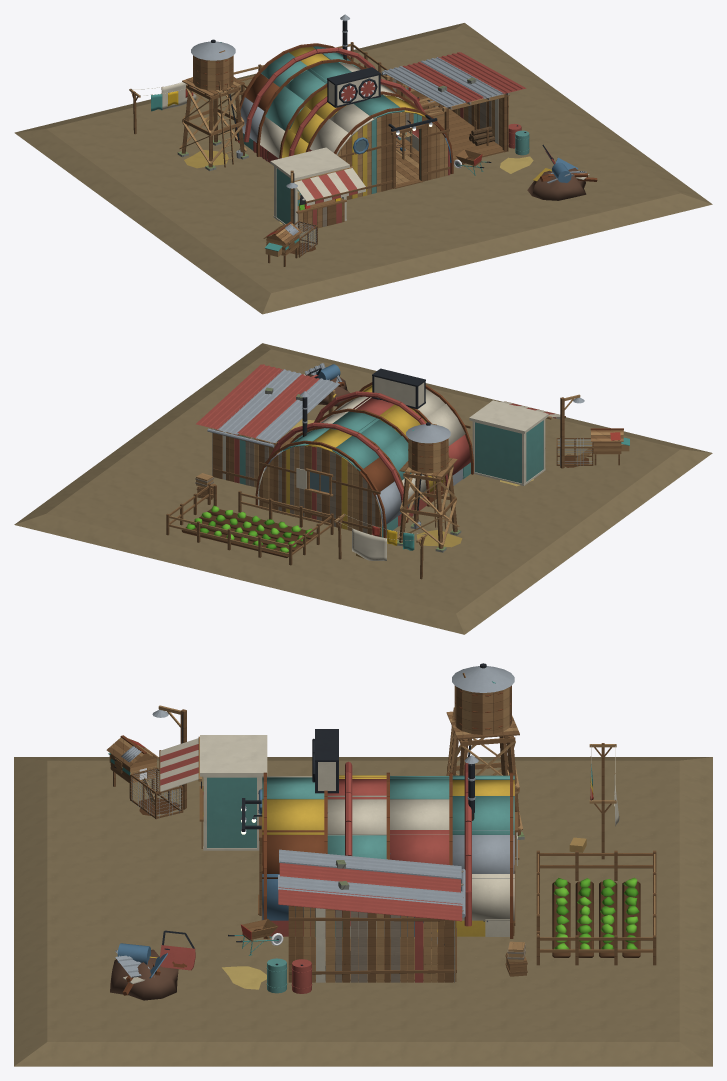
Rendered from farmer_shack.glb.
3 renders of one model, top to bottom at view 1: azimuth 30°, elevation 25°; view 2: azimuth 150°, elevation 25°; view 3: azimuth 270°, elevation 25°, orthographic. The views are drawn at different scales.
Visible parts, largest first — view 1: farmer_shack.001; view 2: farmer_shack.001; view 3: farmer_shack.001.
Part boxes in pixels (left/top/right/bottom): farmer_shack.001: left=14, top=14, right=712, bottom=314; farmer_shack.001: left=14, top=343, right=712, bottom=634; farmer_shack.001: left=14, top=663, right=712, bottom=1066.
Size of what is drawn, in the model's own units: 22 by 5.79 by 21.
143 materials, 141 textured.
